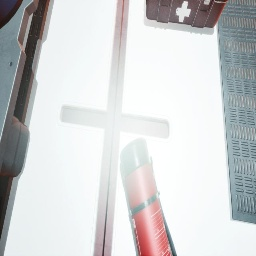FireExtinguisher ]: (120, 137, 177, 256)
FirstAidBox ,: (146, 0, 228, 28)
